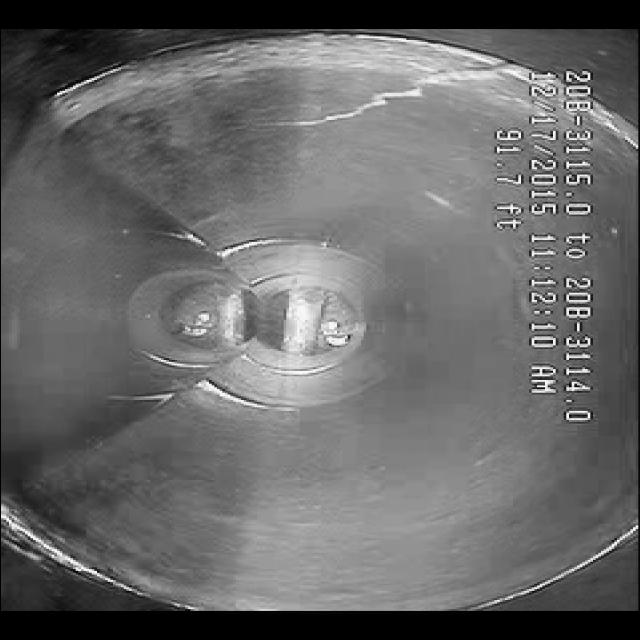Crack: (268, 64, 492, 144)
